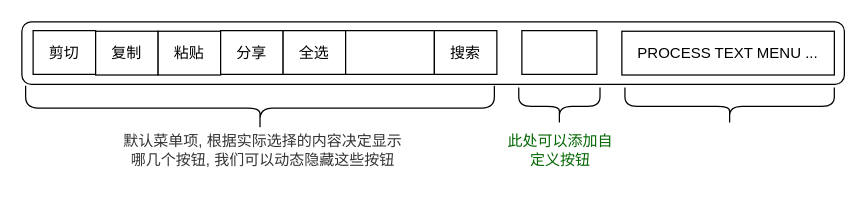
This 866x210 diagram has some shape labels left out. Here are the shapes that lost their labels. From the top down, the box of each, then its label:
(344, 29, 434, 74): 纯文本粘贴
(521, 29, 597, 74): 自定义...
(624, 86, 834, 125): 其他APP向系统注册的按钮
